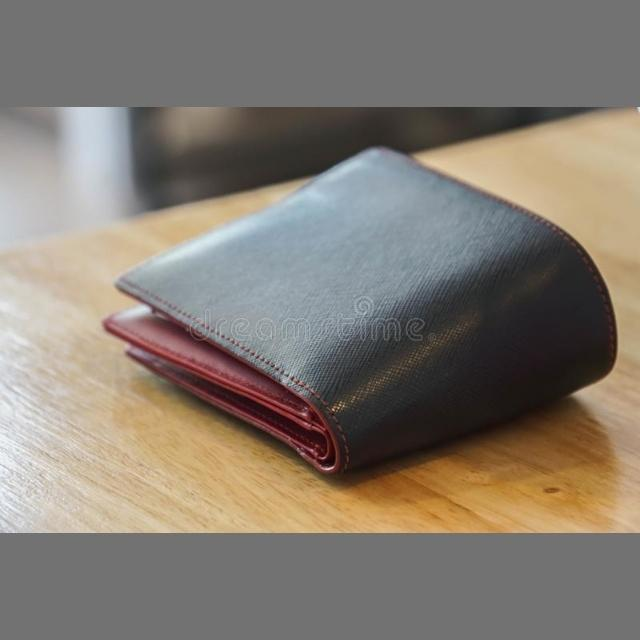Wallet: (74, 134, 640, 484)
